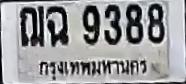3: (103, 4, 121, 44)
8: (125, 3, 142, 43), (147, 3, 164, 42)
9: (82, 4, 99, 44)
A09: (46, 5, 68, 46)
A12: (19, 5, 44, 46)
BKK: (35, 55, 149, 78)
